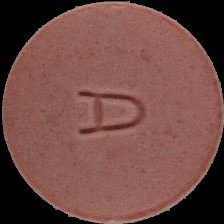57237-053: (0, 0, 224, 224)
